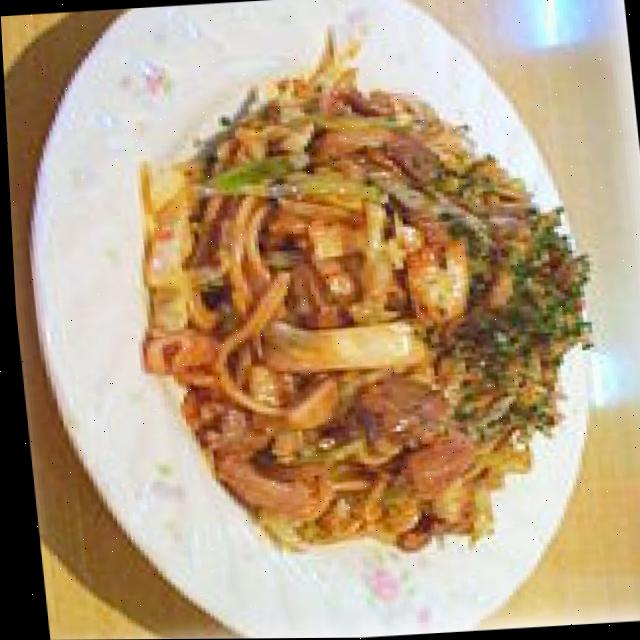面条主食: (101, 58, 624, 575)
